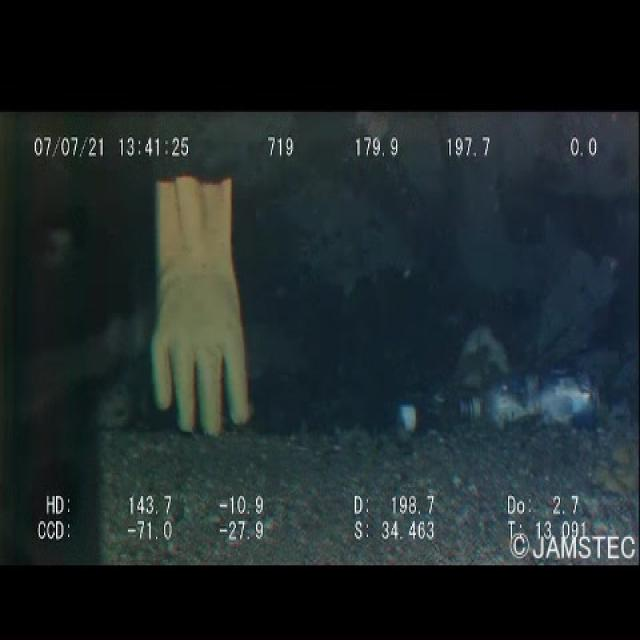plastic: (389, 374, 456, 454)
